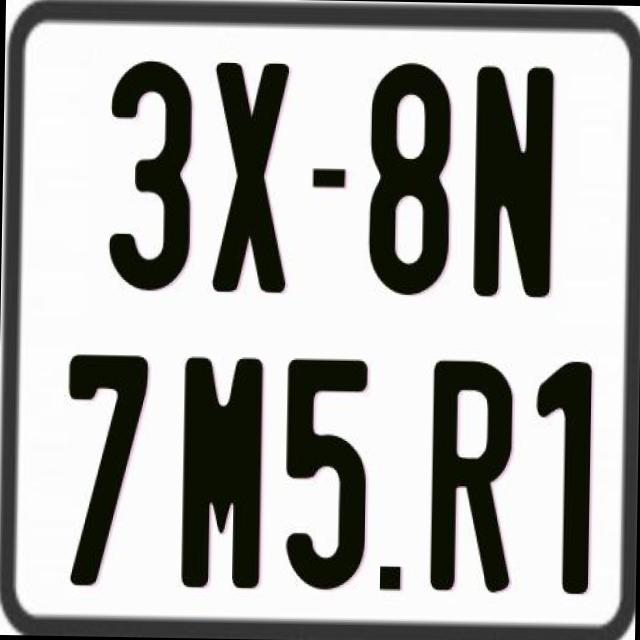1: (532, 359, 590, 598)
3: (106, 57, 194, 287)
5: (280, 358, 368, 590)
7: (63, 350, 149, 584)
8: (363, 62, 447, 298)
M: (176, 352, 260, 590)
N: (471, 60, 558, 298)
R: (428, 356, 512, 590)
X: (210, 59, 294, 294)
